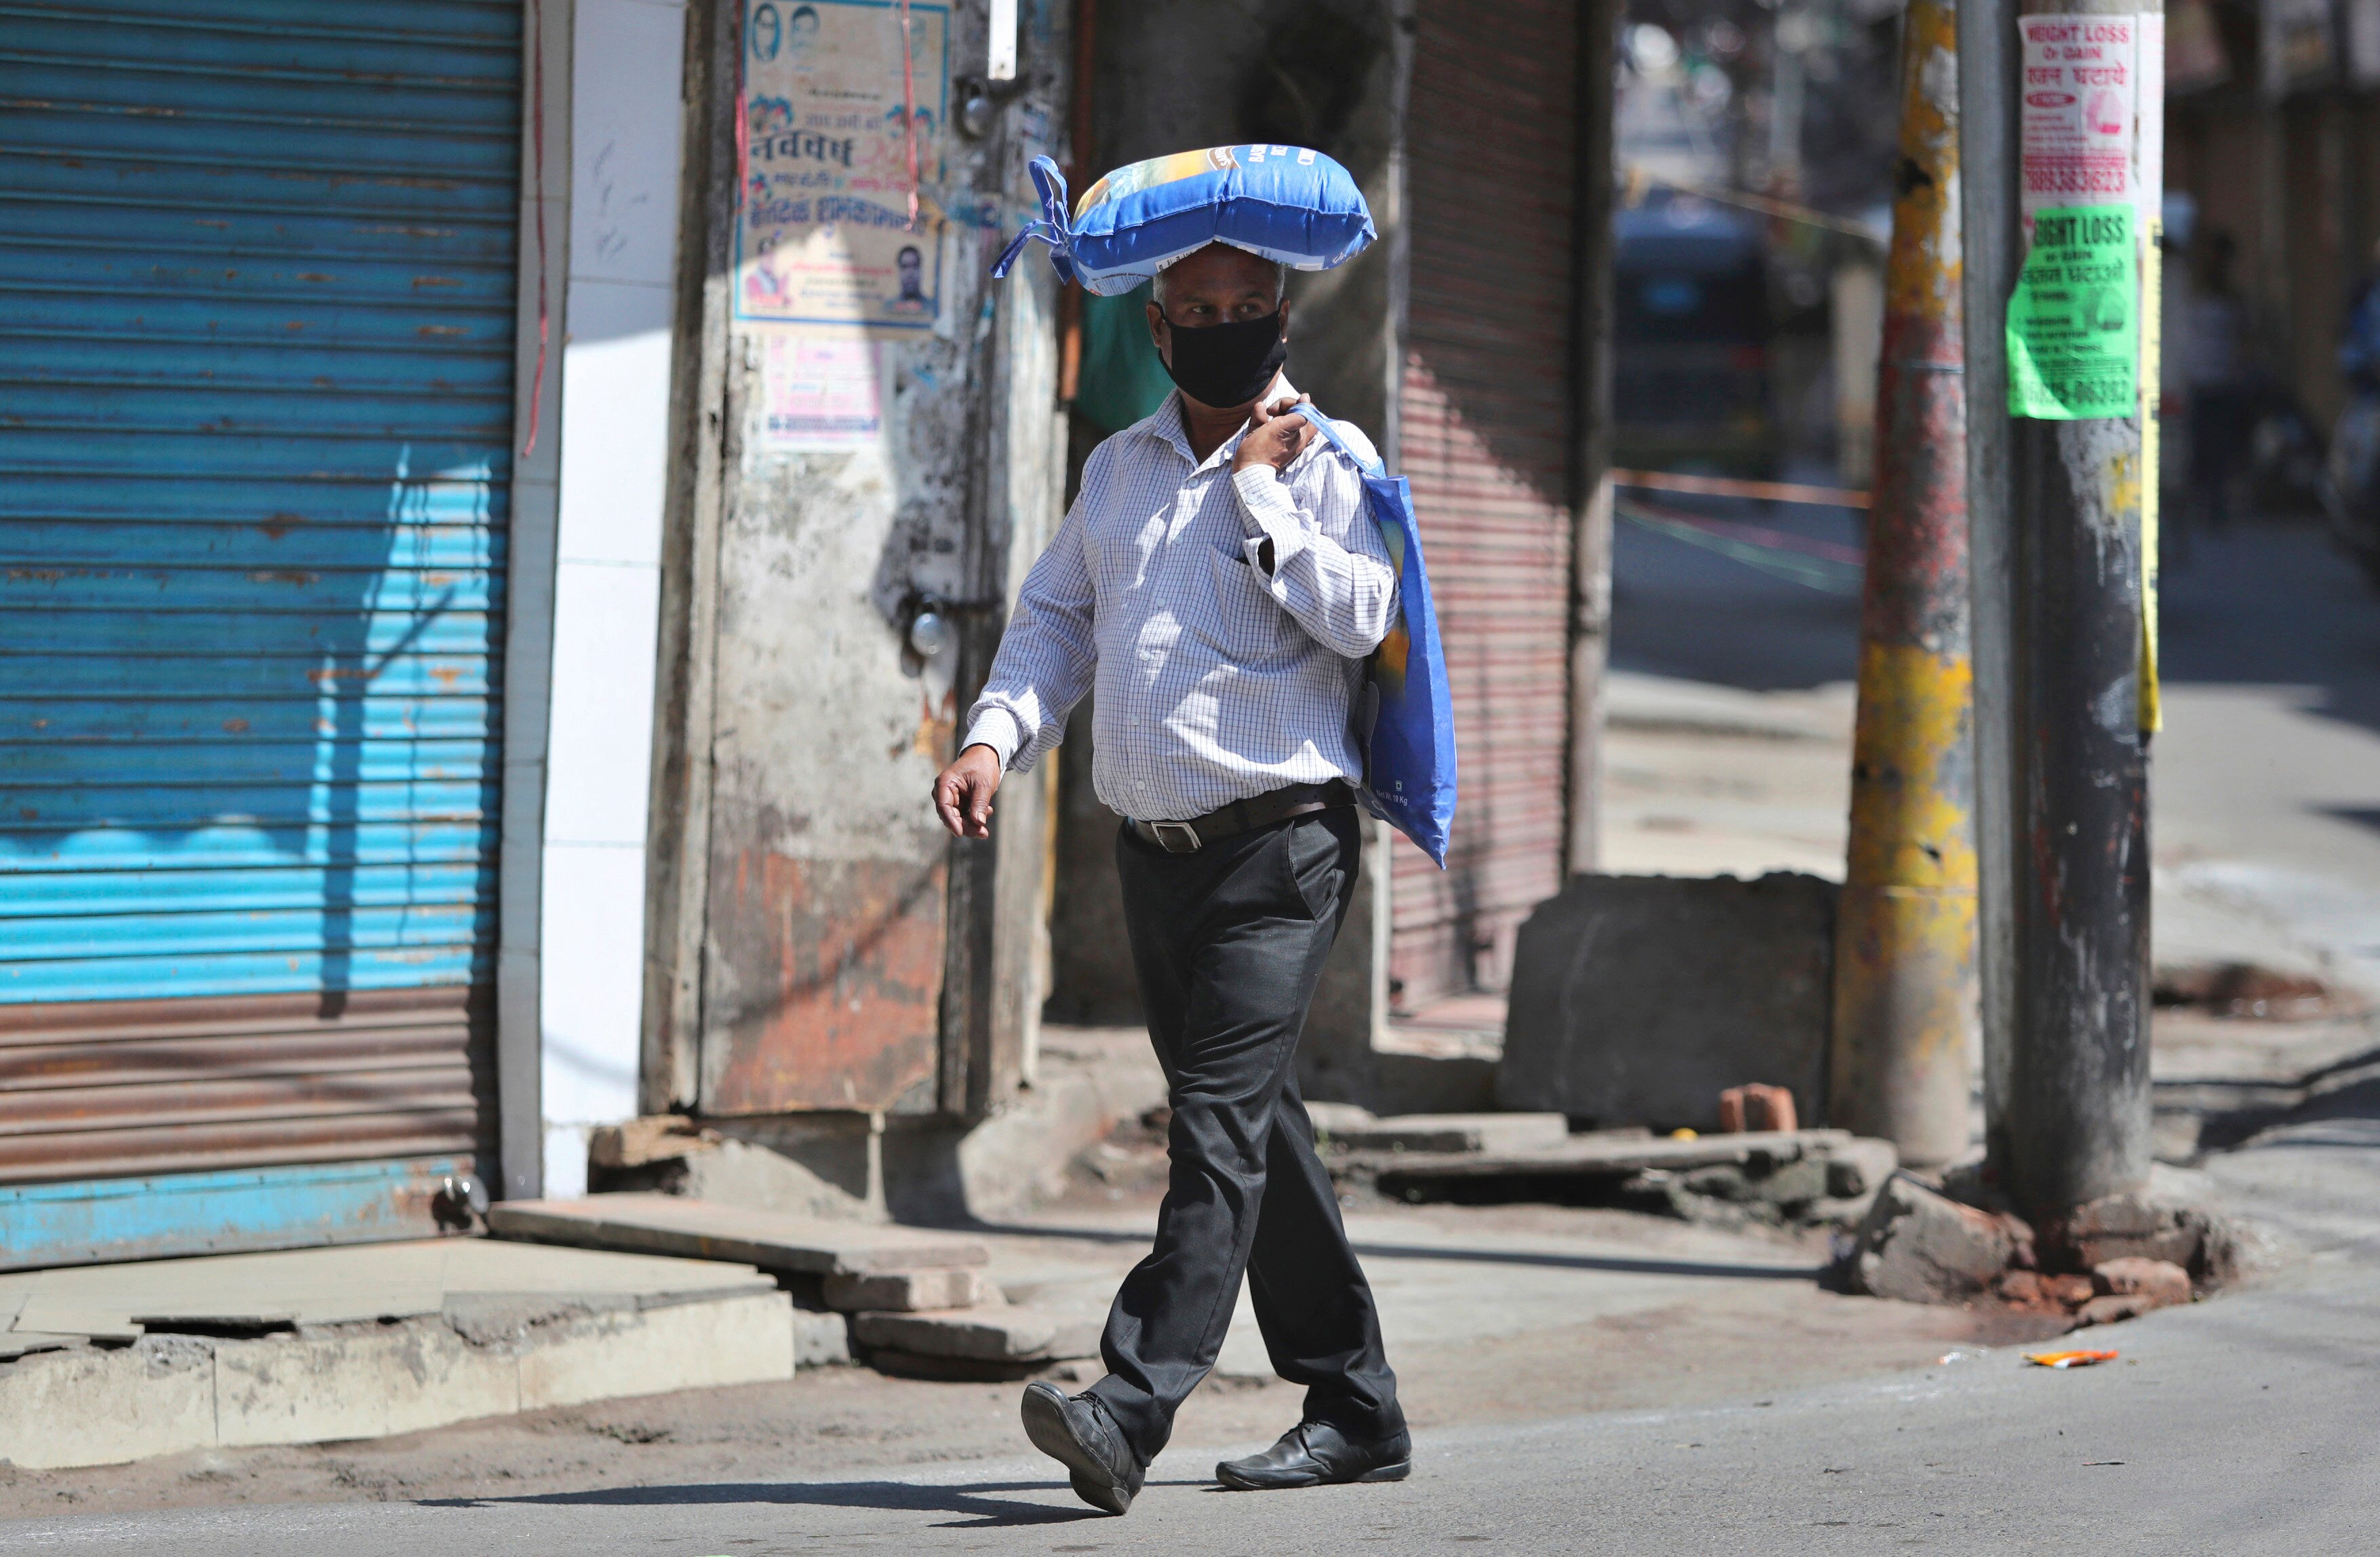mask: (1145, 261, 1315, 421)
